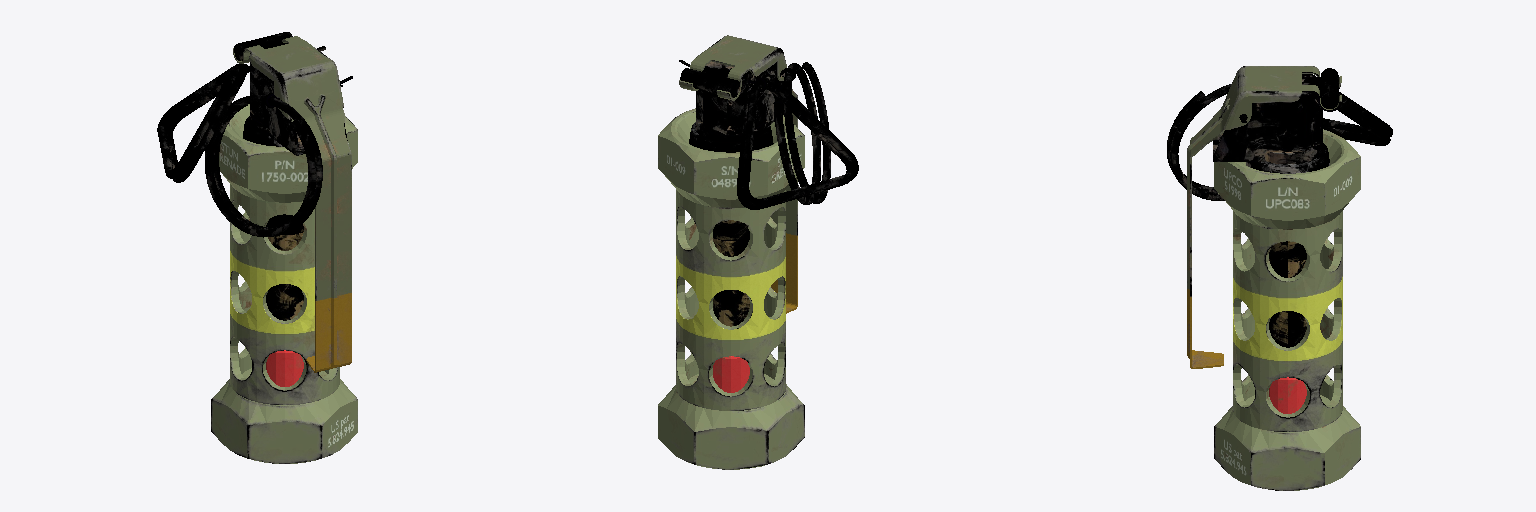
3 views of the same model, side by side, from view 1: azimuth 30°, elevation 25°; view 2: azimuth 150°, elevation 25°; view 3: azimuth 270°, elevation 25° (orthographic).
Parts seen in each view (by area): view 1: mesh0.dat, mesh3.dat, mesh4.dat, mesh5.dat, mesh1.dat, mesh2.dat; view 2: mesh0.dat, mesh2.dat, mesh3.dat, mesh5.dat, mesh4.dat, mesh1.dat; view 3: mesh0.dat, mesh2.dat, mesh3.dat, mesh1.dat, mesh4.dat, mesh5.dat.
Boxes of the visible parts, x1,y1,x2,y2 form: mesh0.dat: [211, 104, 357, 463]; mesh3.dat: [233, 36, 351, 372]; mesh4.dat: [205, 95, 322, 236]; mesh5.dat: [157, 64, 246, 182]; mesh1.dat: [266, 214, 303, 386]; mesh2.dat: [234, 32, 347, 155]; mesh0.dat: [658, 108, 804, 469]; mesh2.dat: [680, 61, 783, 142]; mesh3.dat: [679, 35, 797, 313]; mesh5.dat: [737, 80, 858, 209]; mesh4.dat: [773, 62, 830, 204]; mesh1.dat: [713, 220, 749, 392]; mesh0.dat: [1214, 129, 1360, 490]; mesh2.dat: [1213, 68, 1338, 163]; mesh3.dat: [1187, 66, 1341, 368]; mesh1.dat: [1269, 241, 1306, 413]; mesh4.dat: [1167, 84, 1231, 200]; mesh5.dat: [1313, 75, 1392, 145].
Size of the model in its own units: 9.47 by 19.9 by 10.58.
Materials: 8 (1 with a texture image).